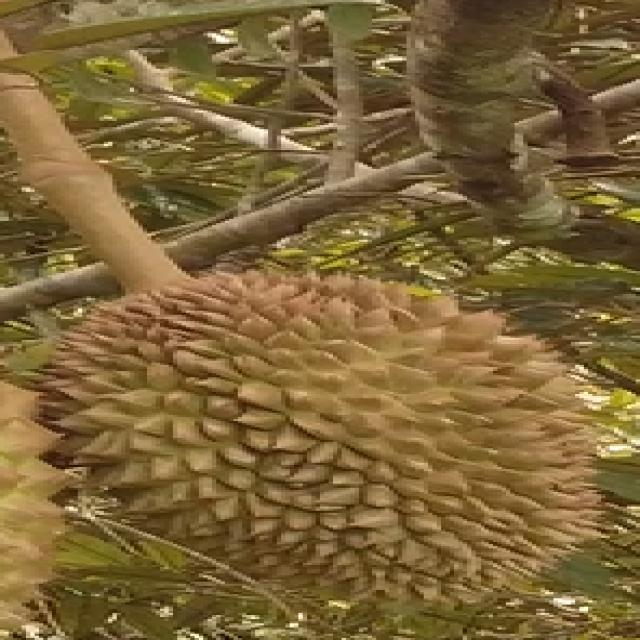mature: (39, 275, 596, 602)
